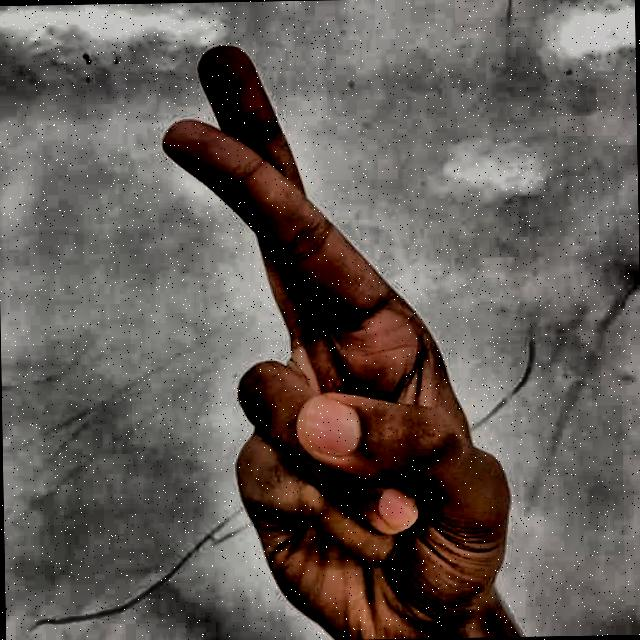Ra: (111, 18, 543, 640)
